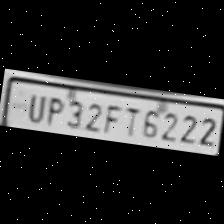2: (80, 98, 104, 131), (174, 110, 198, 143), (156, 108, 180, 140), (195, 113, 218, 146)
3: (62, 95, 85, 128)
6: (137, 104, 161, 138)
F: (100, 100, 123, 134)
P: (42, 92, 64, 125)
T: (119, 101, 142, 135)
U: (22, 89, 46, 123)
